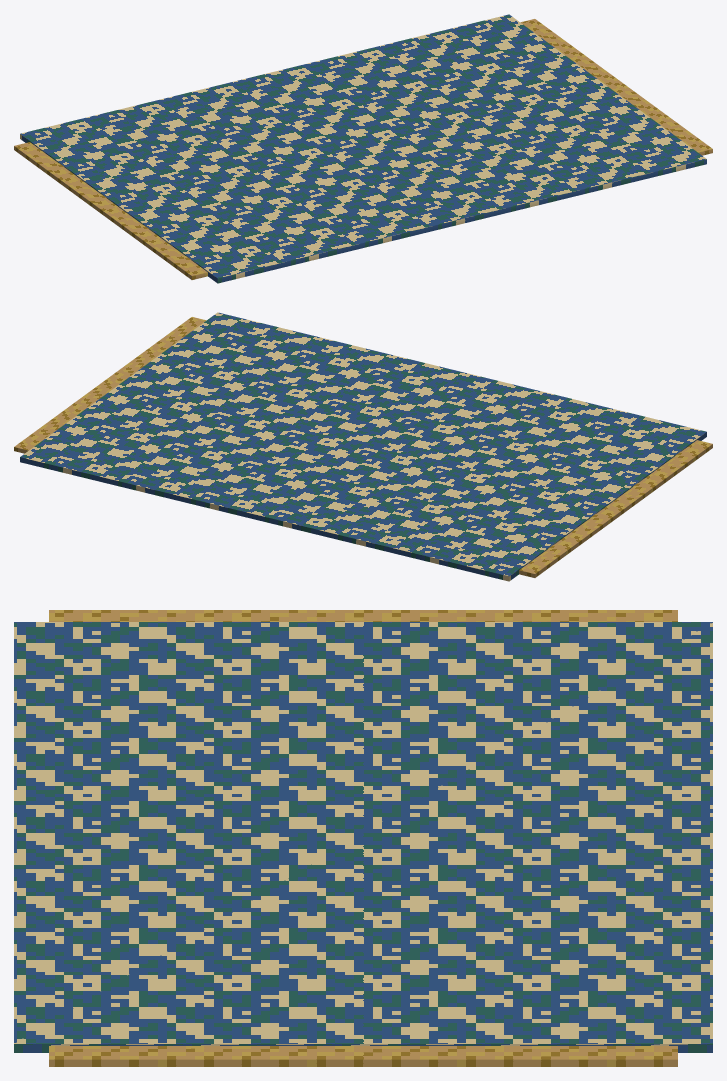
The model's file is furn.rug.glb.
The picture shows the model from 3 angles, top to bottom: view 1: azimuth 30°, elevation 25°; view 2: azimuth 150°, elevation 25°; view 3: azimuth 270°, elevation 25°; orthographic projection. The views are drawn at different scales.
Visible parts, largest first — view 1: kit_rug, kit_fringe; view 2: kit_rug, kit_fringe; view 3: kit_rug, kit_fringe.
Part boxes in pixels (bbox=[...]): kit_rug: bbox=[20, 14, 706, 283]; kit_fringe: bbox=[14, 19, 712, 279]; kit_rug: bbox=[20, 312, 706, 581]; kit_fringe: bbox=[14, 317, 712, 577]; kit_rug: bbox=[14, 622, 712, 1052]; kit_fringe: bbox=[49, 610, 677, 1066].
Bounding box in the file's own units: 2.13 × 0.02 × 1.4.
Materials: 2 (2 with a texture image).
